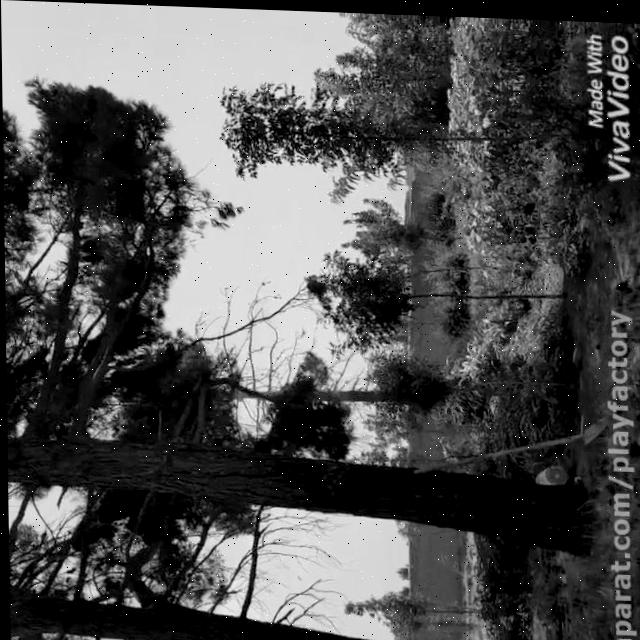drone: (293, 324, 305, 337)
